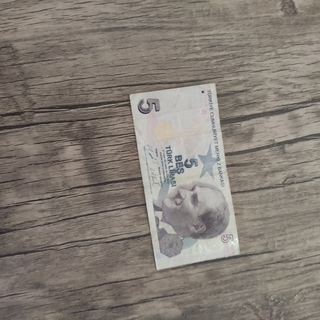5TLFront: (128, 82, 241, 271)
